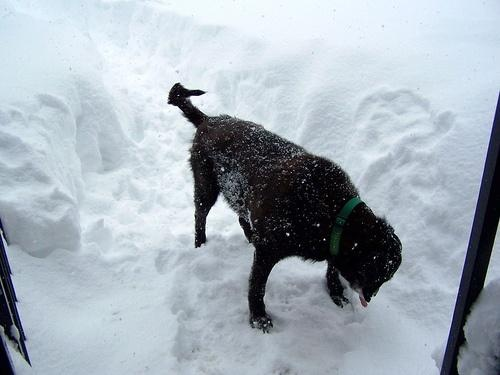dog: (167, 82, 407, 333)
